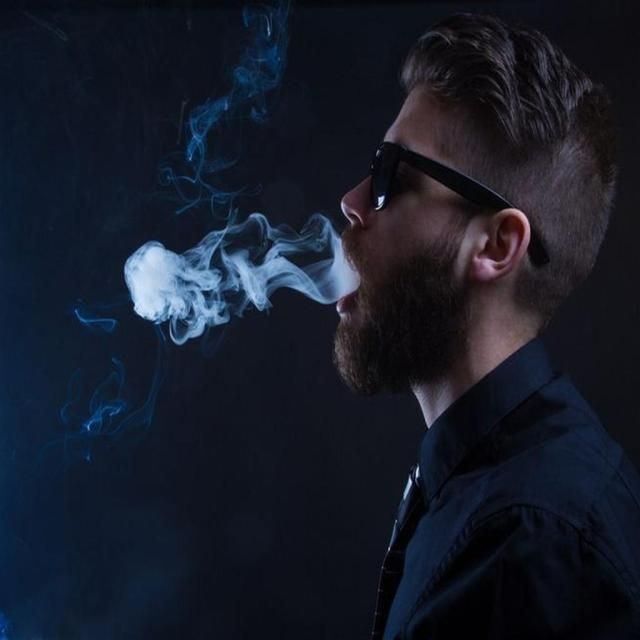smoking: (121, 25, 610, 389)
